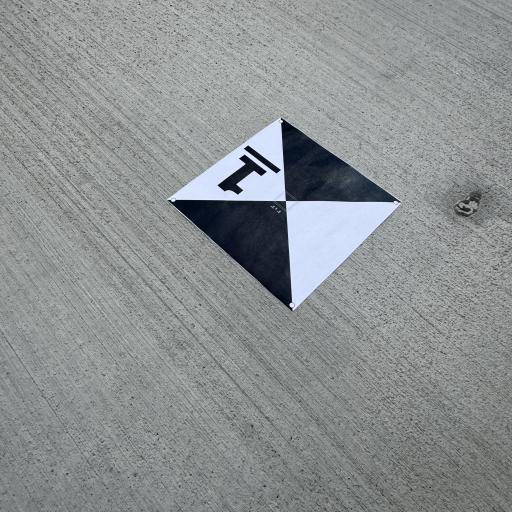target1: (168, 113, 412, 313)
